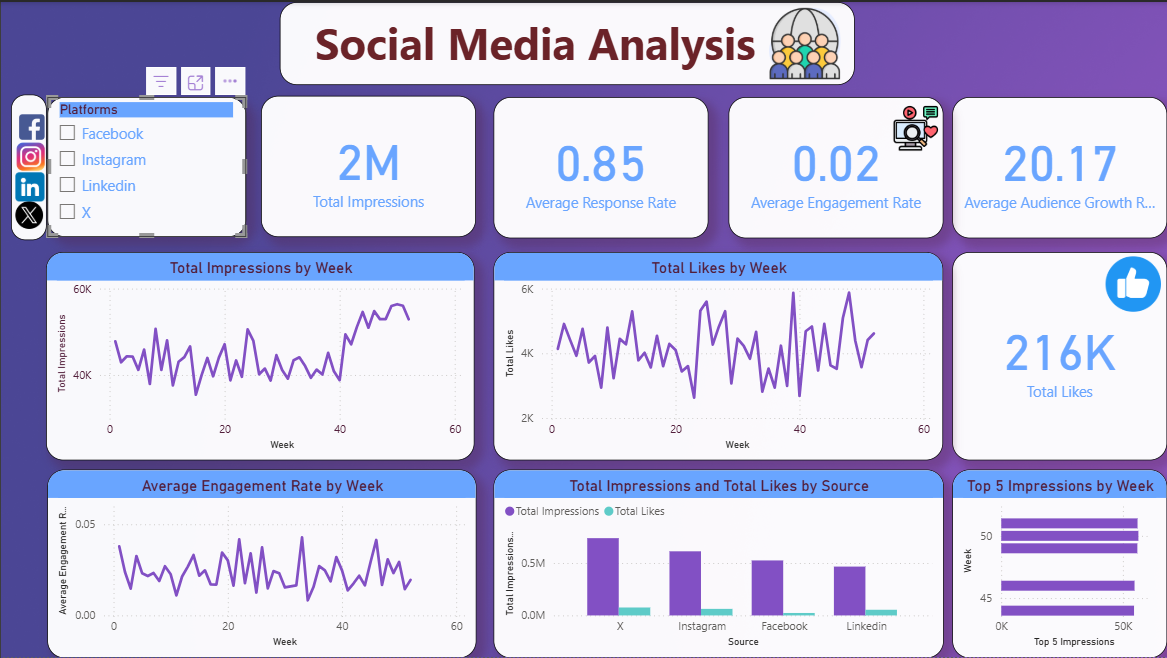

Layout of this report page (visuals, bound fields, positions):
{"tool":"powerbi","page":{"name":"Page 1","canvas":[1280,720],"ordinal":0},"visuals":[{"type":"slicer","fields":{"Values":["All Tables.Source"]},"box":[50.8,104.3,218.2,153.7],"z":0},{"type":"card","fields":{"Values":["new dax table.Average Audience Growth Rate"]},"box":[1044.3,104.3,236,155.1],"z":1000},{"type":"card","fields":{"Values":["new dax table.Average Engagement Rate"]},"box":[798.6,104.3,236,155.1],"z":2000},{"type":"card","fields":{"Values":["new dax table.Average Response Rate"]},"box":[540.7,104.3,236,155.1],"z":3000},{"type":"card","fields":{"Values":["new dax table.Total Impressions"]},"box":[285.4,102.9,236,155.1],"z":4000},{"type":"card","fields":{"Values":["new dax table.Total Likes"]},"box":[1044.3,274.4,236,229.2],"z":5000},{"type":"lineChart","fields":{"Y":["new dax table.Total Impressions"],"Category":["All Tables.Week"]},"box":[49.4,274.4,470.7,229.2],"z":6000},{"type":"lineChart","fields":{"Category":["All Tables.Week"],"Y":["new dax table.Total Likes"]},"box":[540.7,274.4,494,229.2],"z":7000},{"type":"lineChart","fields":{"Category":["All Tables.Week"],"Y":["new dax table.Average Engagement Rate"]},"box":[51,513,471,207],"z":8000},{"type":"clusteredColumnChart","fields":{"Category":["All Tables.Source"],"Y":["new dax table.Total Impressions","new dax table.Total Likes"]},"box":[541,513,494,207],"z":9000},{"type":"clusteredBarChart","fields":{"Y":["new dax table.Top 5 Impressions"],"Category":["All Tables.Week"]},"box":[1044,513,236,207],"z":10000},{"type":"textbox","box":[305.7,0,631.5,90.8],"z":11000},{"type":"textbox","box":[11.5,100.9,38.9,160],"z":12000},{"type":"image","box":[11.5,210.5,40.4,47.6],"z":13000},{"type":"image","box":[11.5,180.2,41.8,46.1],"z":14000},{"type":"image","box":[11.5,148.5,43.3,43.3],"z":15000},{"type":"image","box":[14.4,115.3,37.5,44.7],"z":16000},{"type":"image","box":[974.6,106.7,60.6,63.4],"z":17000},{"type":"image","box":[1206.8,273.9,73.5,70.6],"z":18000},{"type":"image","box":[839.1,0,87.9,90.8],"z":19000}]}

Visuals, with their boxes in screenshot pixels (x1, y1, x2, y2):
slicer - All Tables.Source: bbox=(49, 94, 245, 232)
card - new dax table.Average Audience Growth Rate: bbox=(942, 94, 1154, 233)
card - new dax table.Average Engagement Rate: bbox=(721, 94, 933, 233)
card - new dax table.Average Response Rate: bbox=(489, 94, 701, 233)
card - new dax table.Total Impressions: bbox=(260, 93, 472, 232)
card - new dax table.Total Likes: bbox=(942, 247, 1154, 453)
lineChart - new dax table.Total Impressions x All Tables.Week: bbox=(47, 247, 471, 453)
lineChart - All Tables.Week x new dax table.Total Likes: bbox=(489, 247, 933, 453)
lineChart - All Tables.Week x new dax table.Average Engagement Rate: bbox=(49, 461, 472, 647)
clusteredColumnChart - All Tables.Source x new dax table.Total Impressions: bbox=(489, 461, 934, 647)
clusteredBarChart - new dax table.Top 5 Impressions x All Tables.Week: bbox=(942, 461, 1154, 647)
textbox: bbox=(278, 0, 846, 82)
textbox: bbox=(13, 91, 48, 235)
image: bbox=(13, 189, 50, 232)
image: bbox=(13, 162, 51, 203)
image: bbox=(13, 134, 52, 172)
image: bbox=(16, 104, 50, 144)
image: bbox=(879, 96, 934, 153)
image: bbox=(1088, 246, 1154, 310)
image: bbox=(757, 0, 837, 82)
